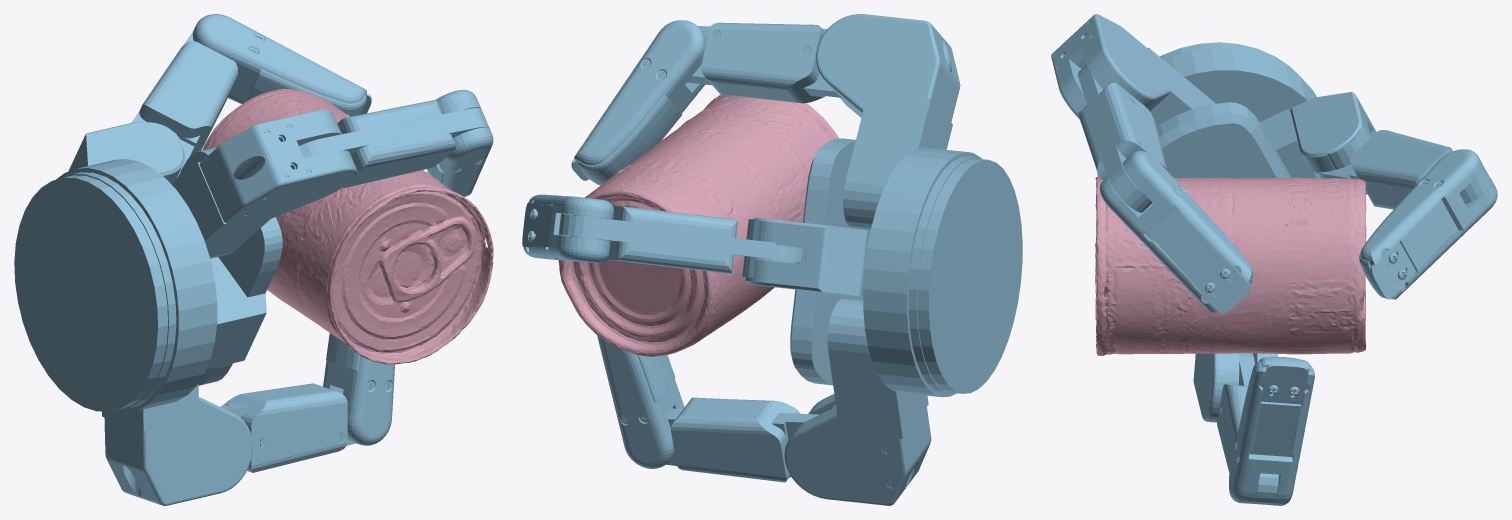
3 renders of one model, left to right at view 1: azimuth 30°, elevation 25°; view 2: azimuth 150°, elevation 25°; view 3: azimuth 270°, elevation 25°, orthographic. The views are drawn at different scales.
Visible parts, largest first — view 1: world; view 2: world; view 3: world.
Part boxes in pixels (x1,y1,x2,y2): world: (14, 14, 493, 505); world: (522, 14, 1022, 505); world: (1051, 14, 1497, 505).
Size of the model in its own units: 0.1666 by 0.1675 by 0.1677.
